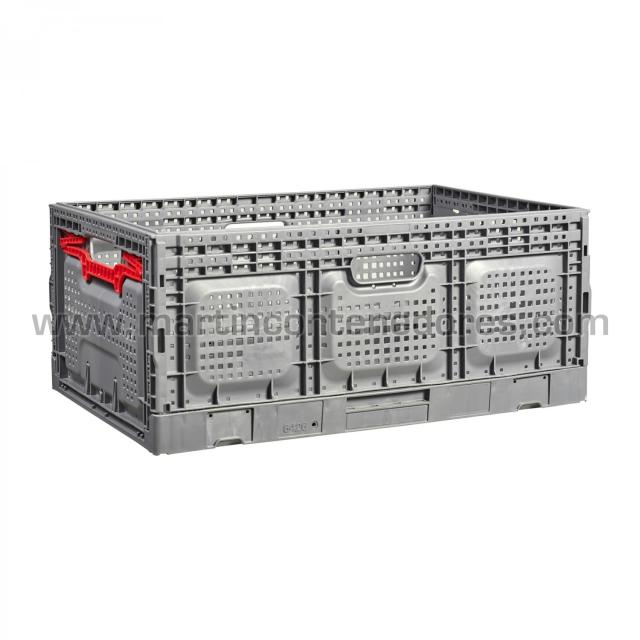basket: (46, 181, 596, 458)
